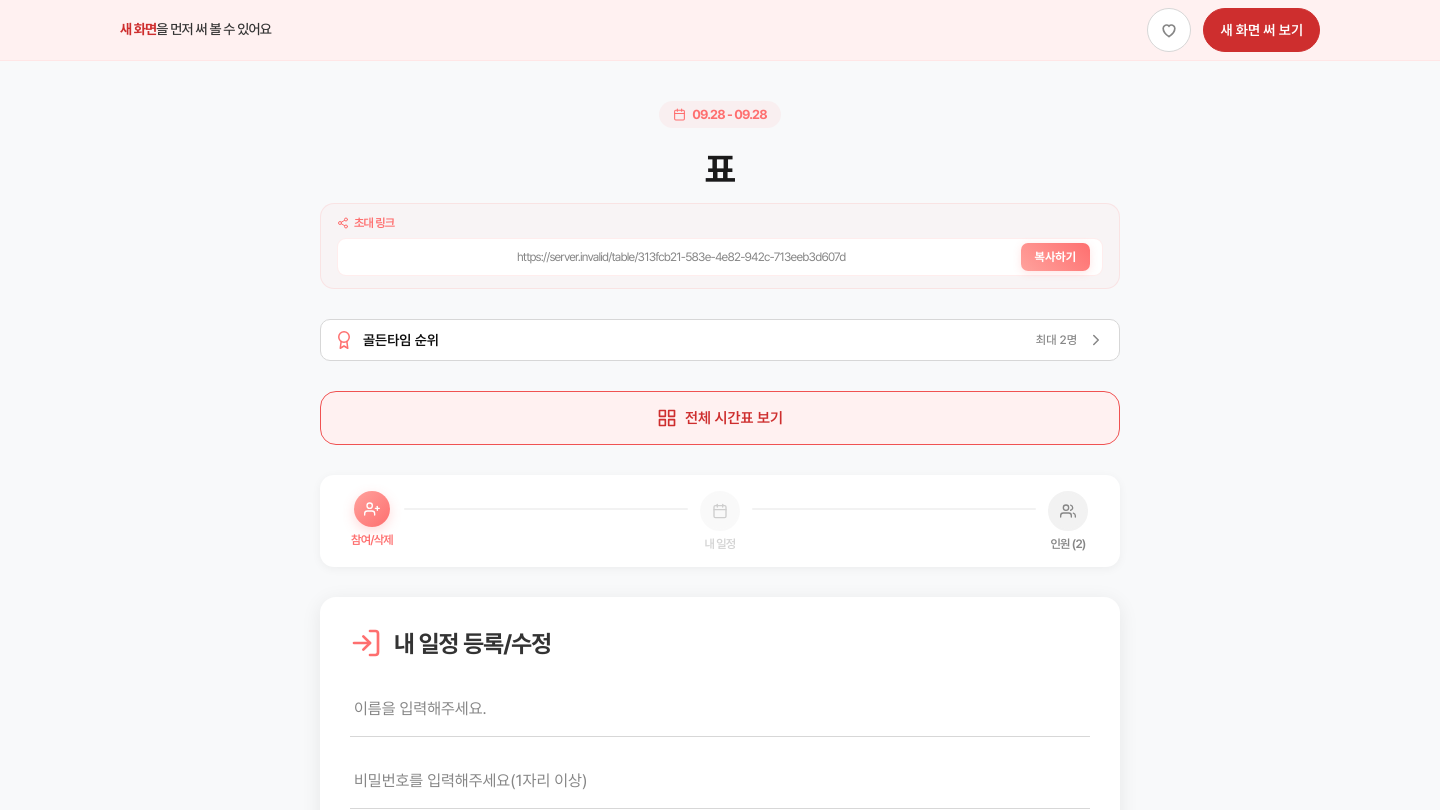
Scenario: 관리자 브라우저는 띠로 바꿀 수 있지만 실험 기록을 보내지 않는다
Expected: the button "전체 시간표 보기" is enabled, x1=320 y1=391 x2=1120 y2=445
Expected: the element named "화면 바꾸기" is shown, x1=0 y1=0 x2=1439 y2=61
Click the button named "기존 화면 쪽에 투표" at (1169, 30), box x1=1147 y1=8 x2=1191 y2=52
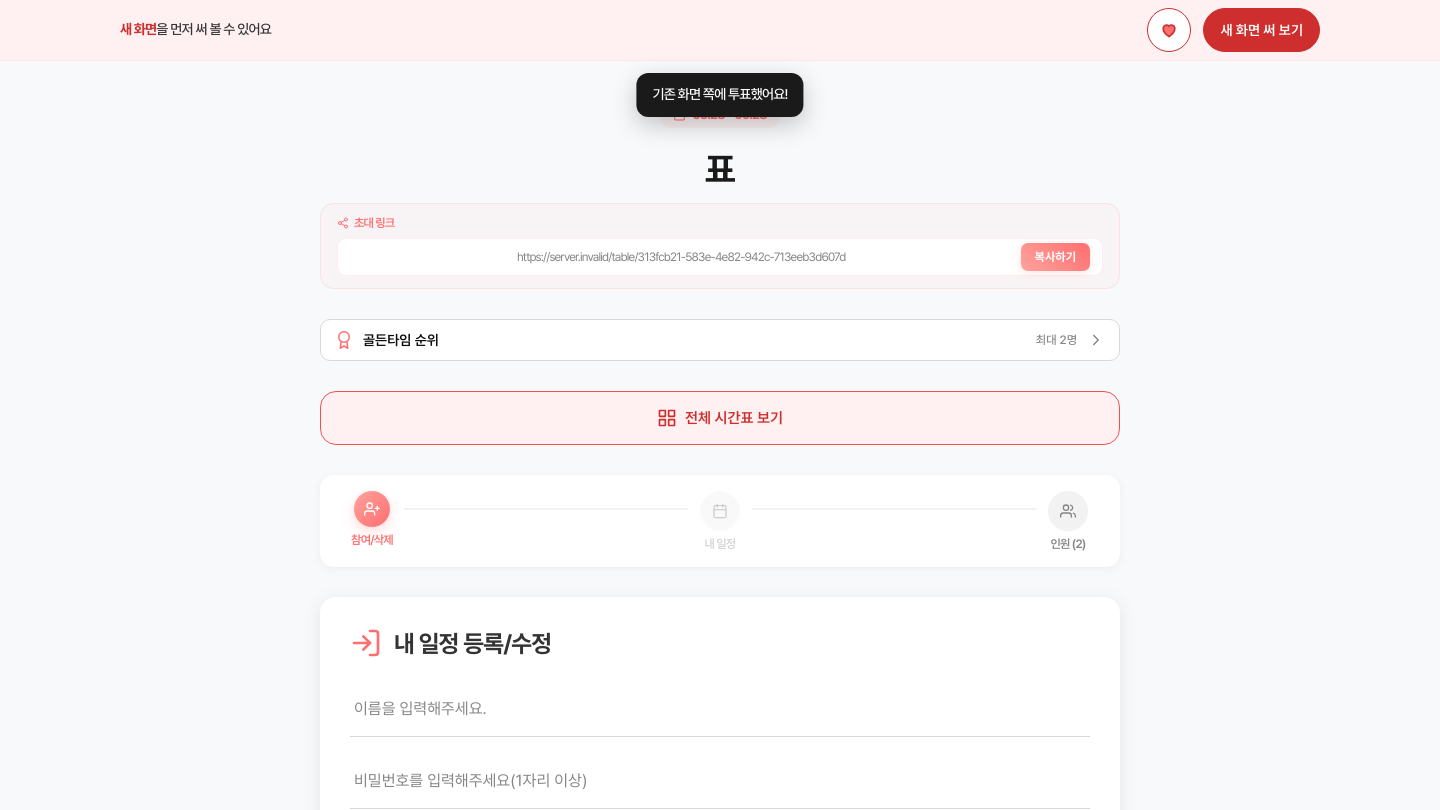
Click the button "새 화면 써 보기" at (1262, 30), box x1=1203 y1=8 x2=1320 y2=52
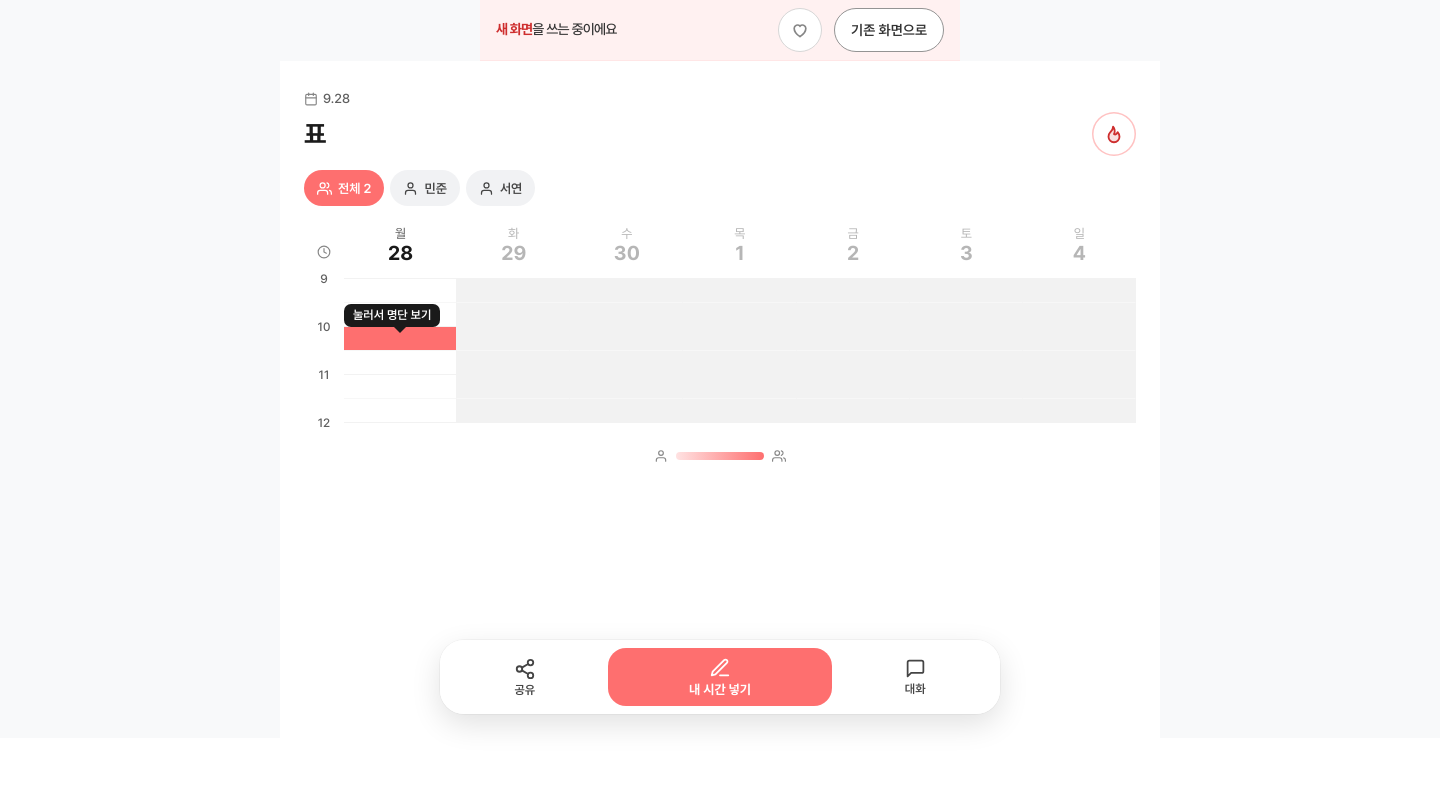
Expected: the button named "가장 많이 모이는 시간" is shown, x1=1092 y1=112 x2=1136 y2=156
